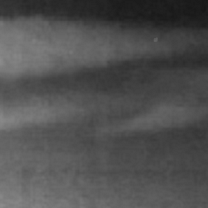Target: (153, 36, 159, 43)
